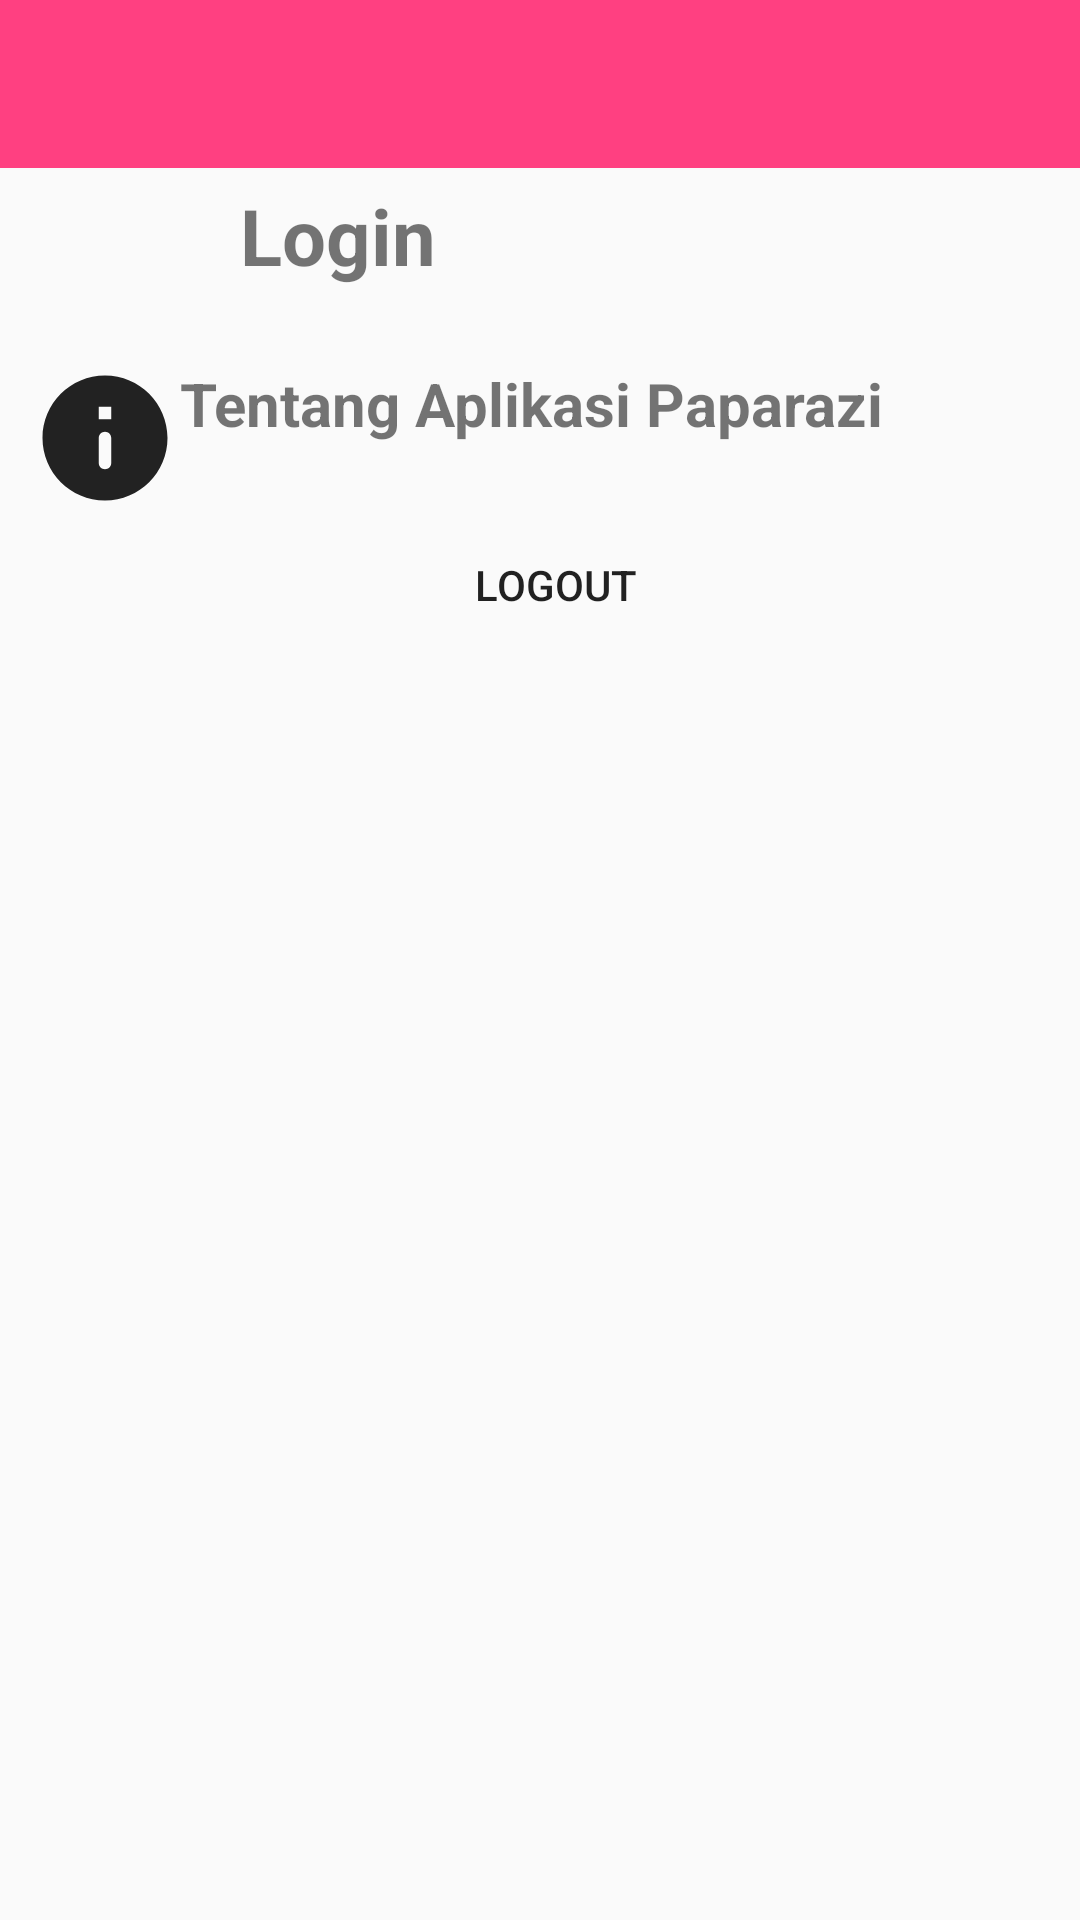

Where icons sit on this 1080 × 1920 app screen, as region(x1, y1, x2, y2):
info: region(42, 375, 168, 501)
